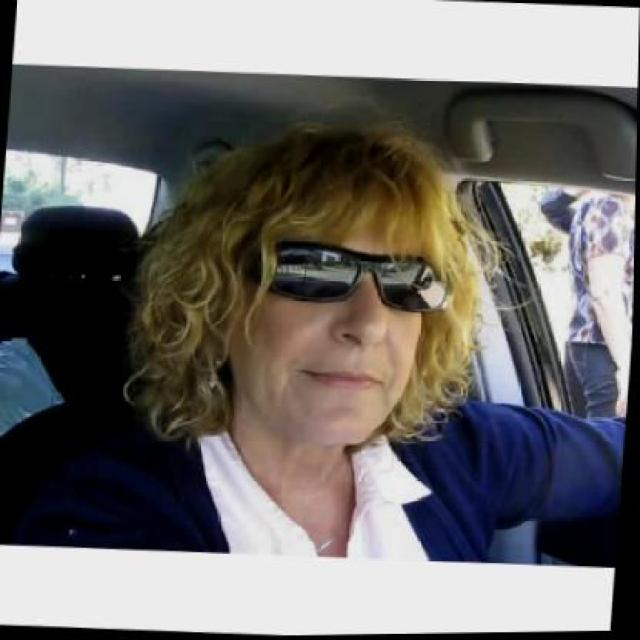attentif: (222, 121, 466, 450)
